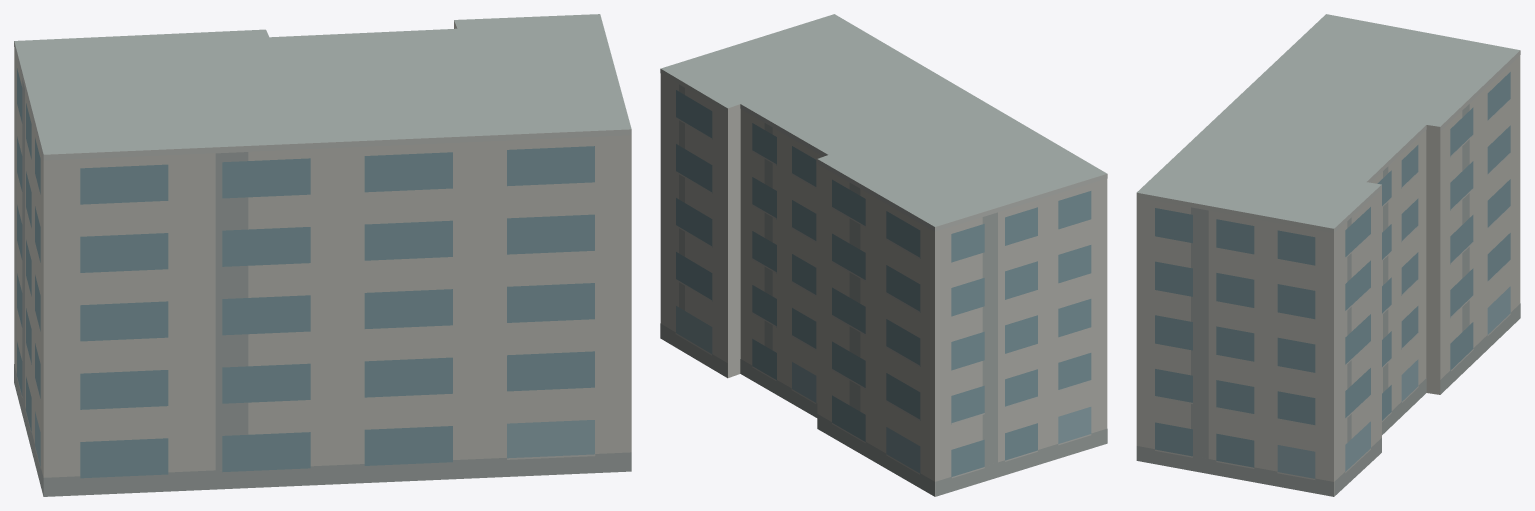
The model's file is survey-upis-33002187.glb.
3 renders of one model, left to right at view 1: azimuth 30°, elevation 25°; view 2: azimuth 150°, elevation 25°; view 3: azimuth 270°, elevation 25°, orthographic. The views are drawn at different scales.
Visible parts, largest first — view 1: survey-upis-33002187.tmp; view 2: survey-upis-33002187.tmp; view 3: survey-upis-33002187.tmp.
Part boxes in pixels (box(x1,y1,x2,y2)): survey-upis-33002187.tmp: box(14, 14, 631, 496); survey-upis-33002187.tmp: box(660, 14, 1107, 496); survey-upis-33002187.tmp: box(1136, 14, 1520, 496).
Size of the model in its own units: 23.72 by 13.8 by 17.92.
